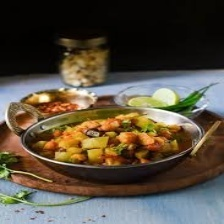sabzi: (24, 109, 196, 171)
